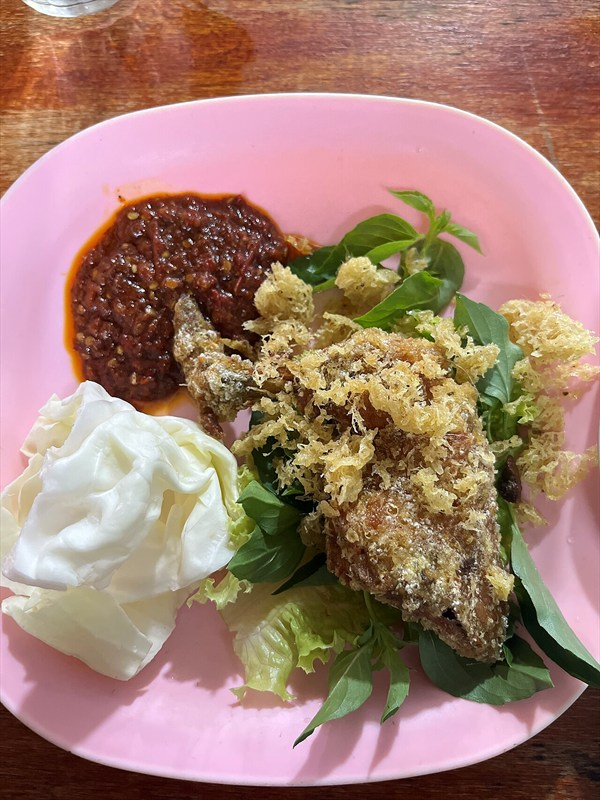Ayam Goreng: (69, 172, 531, 761)
